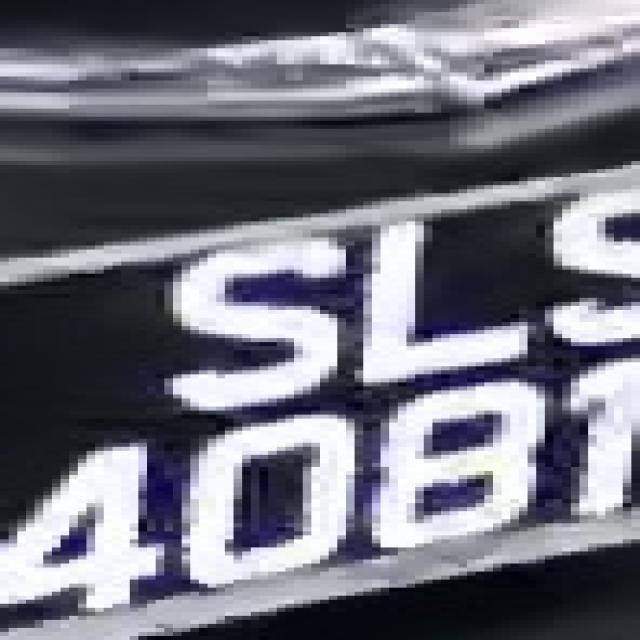0: (173, 410, 363, 596)
1: (7, 2, 9, 4)
4: (9, 439, 164, 620)
8: (354, 378, 545, 544)
L: (320, 205, 528, 382)
S: (147, 222, 337, 410), (6, 1, 9, 2)
